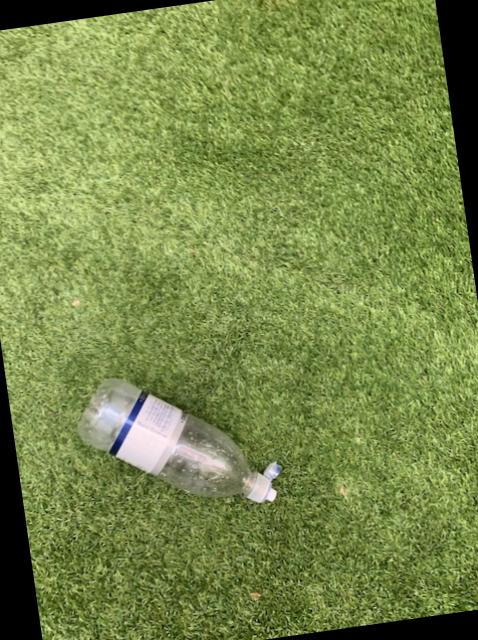plastic: (76, 377, 279, 501)
